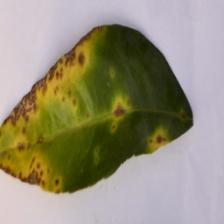canker: (22, 46, 145, 192)
